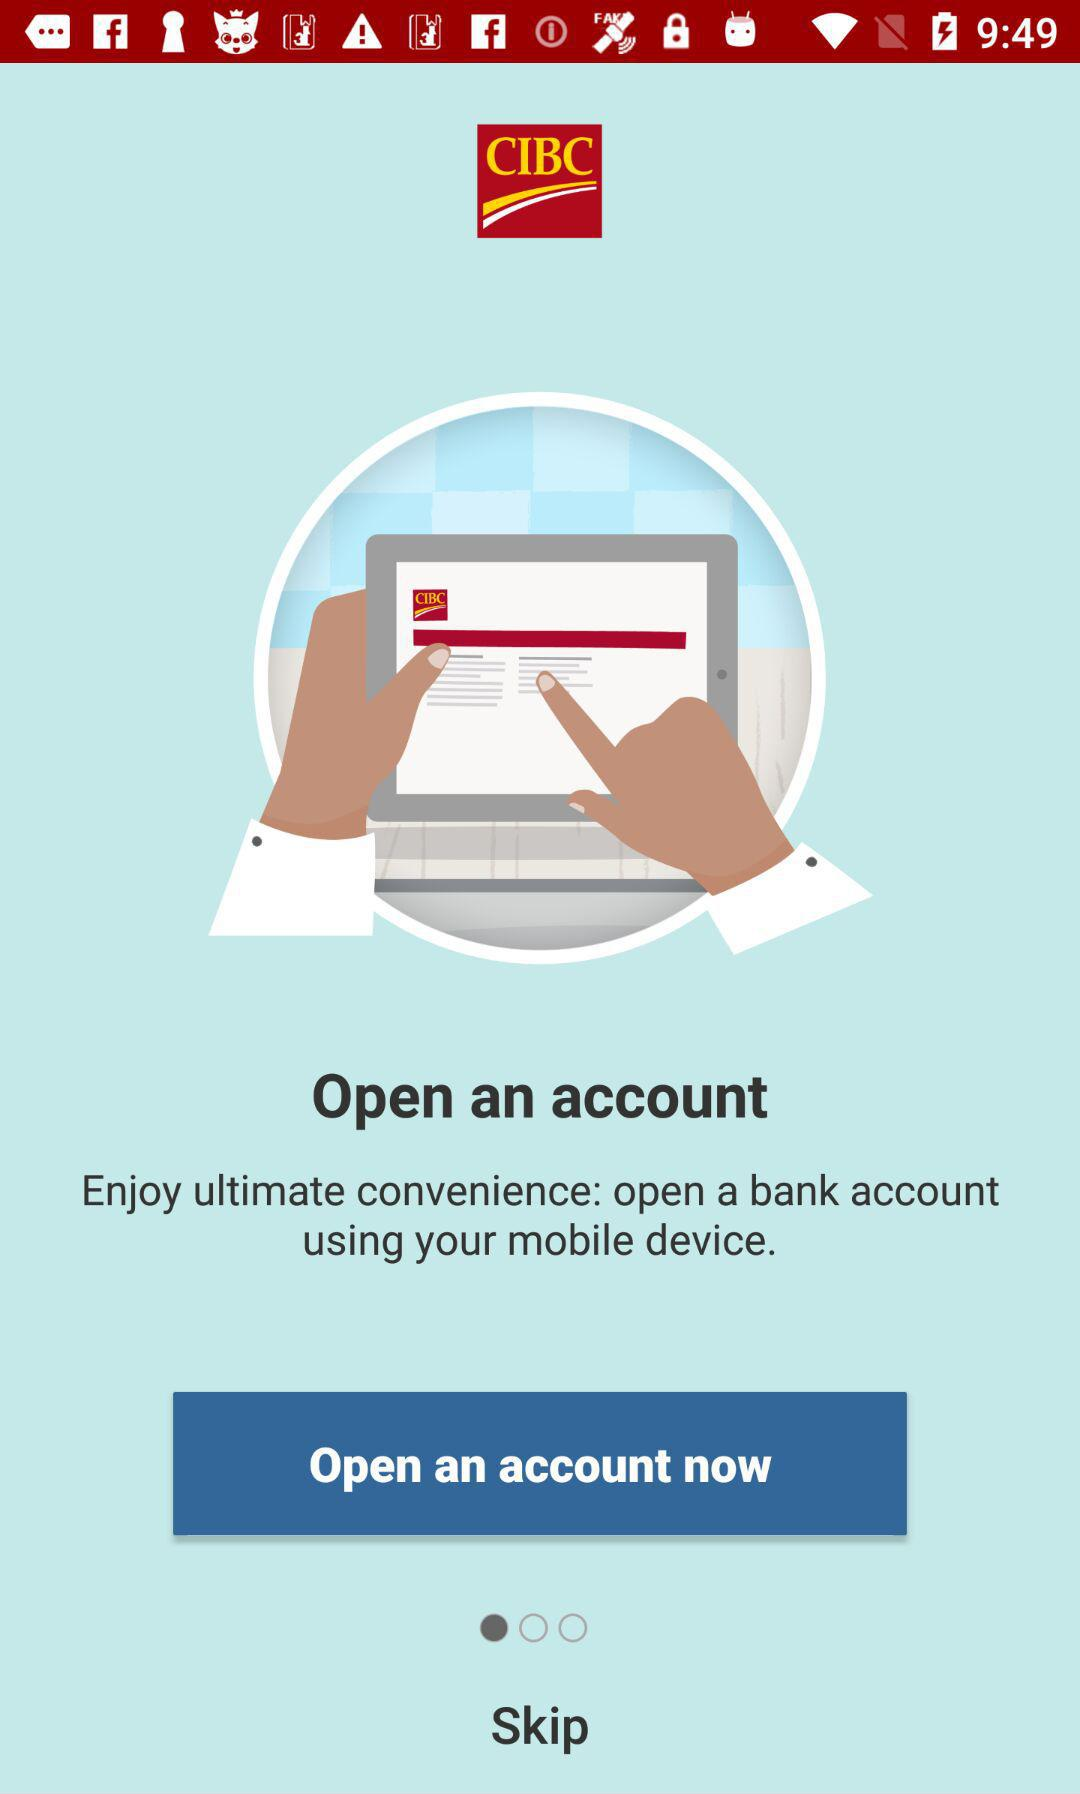Image: (206, 390, 874, 967), (477, 123, 603, 240)
PageIndicator: (478, 1612, 591, 1644)
Text: (82, 1171, 1001, 1269), (313, 1073, 773, 1132), (491, 1703, 591, 1757)
TextButton: (173, 1392, 908, 1536)
UpperTaskBar: (1, 1, 1080, 64)
